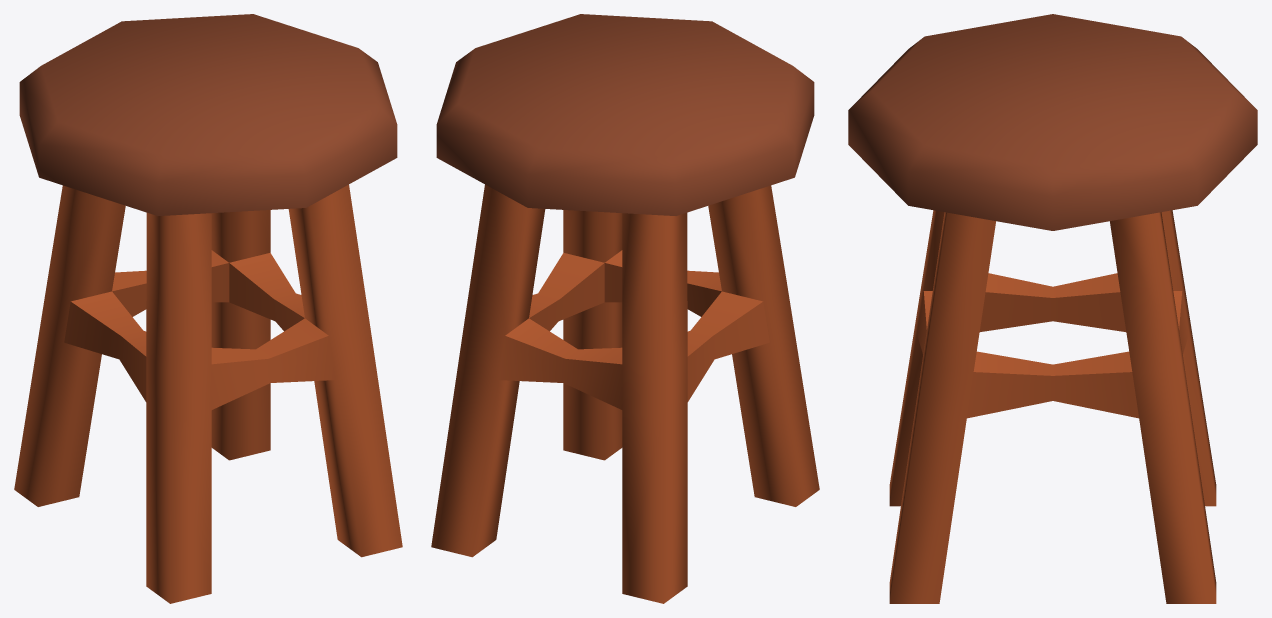
File: Kruk.fbx
3 views of the same model, side by side, from view 1: azimuth 30°, elevation 25°; view 2: azimuth 150°, elevation 25°; view 3: azimuth 270°, elevation 25° (orthographic). The views are drawn at different scales.
Visible parts, largest first — view 1: Kruk; view 2: Kruk; view 3: Kruk.
Boxes of the visible parts, bbox=[...] form: Kruk: bbox=[14, 14, 402, 603]; Kruk: bbox=[431, 14, 819, 603]; Kruk: bbox=[848, 14, 1257, 603].
Size of the model in its own units: 0.6132 by 0.75 by 0.6132.
